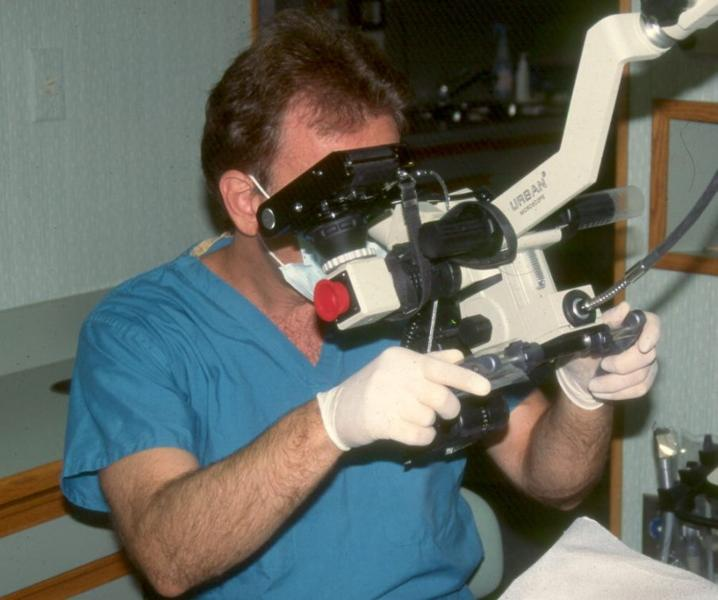person: (66, 15, 657, 599)
